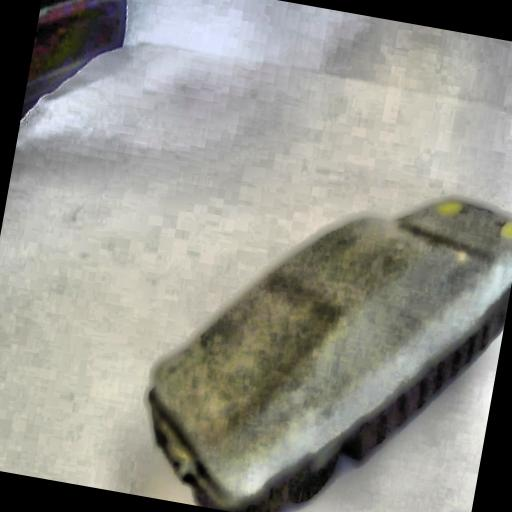normal_car: (125, 149, 512, 512)
